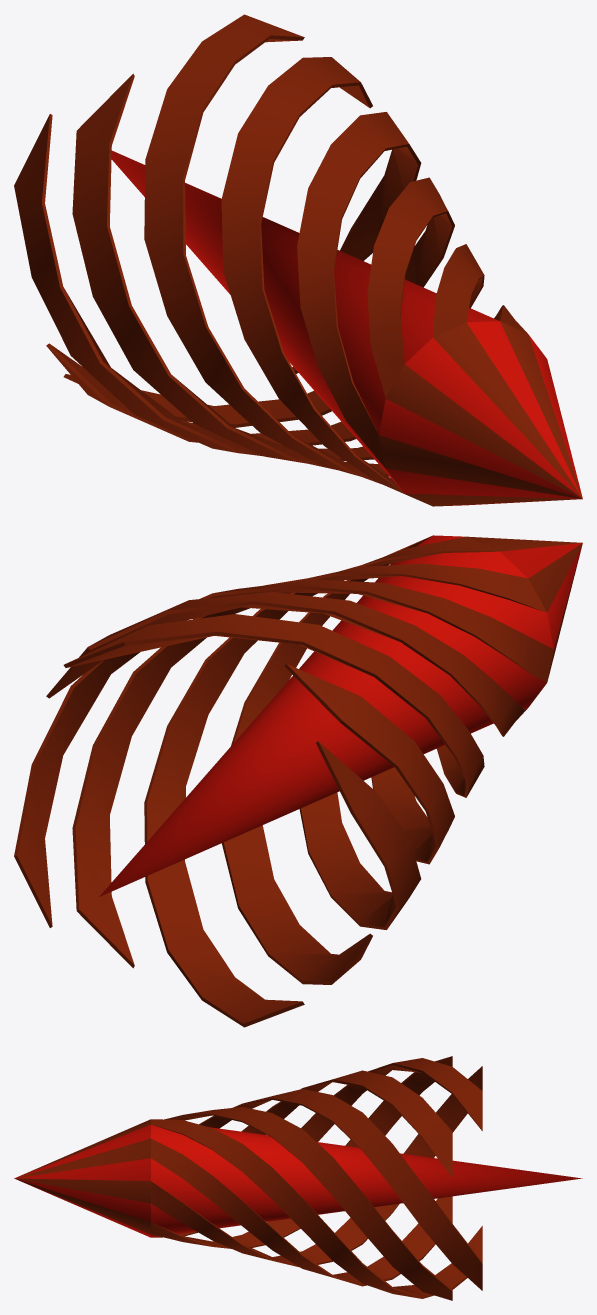
Rendered from BulletEnemy1.fbx.
The picture shows the model from 3 angles, top to bottom: view 1: azimuth 30°, elevation 25°; view 2: azimuth 150°, elevation 25°; view 3: azimuth 270°, elevation 25°; orthographic projection. The views are drawn at different scales.
Parts seen in each view (by area): view 1: enemy1; view 2: enemy1; view 3: enemy1.
Boxes of the visible parts, x1,y1,x2,y2 form: enemy1: [14, 14, 582, 506]; enemy1: [14, 535, 582, 1027]; enemy1: [14, 1056, 582, 1300].
Size of the model in its own units: 0.4244 by 0.4244 by 1.
Materials: 1 (1 with a texture image).
